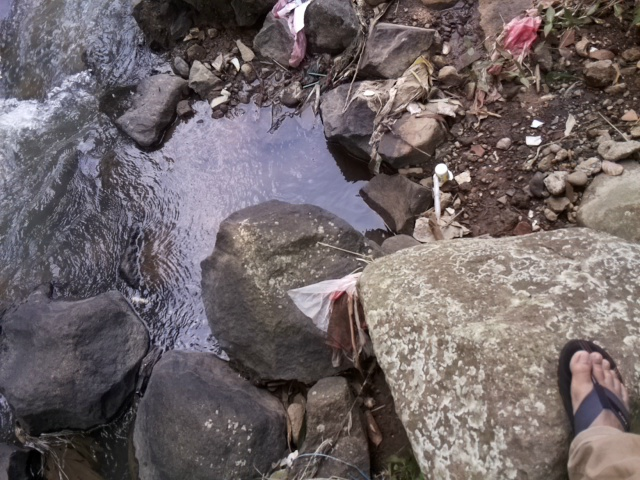Sampah_Plastik: (285, 272, 378, 365), (491, 6, 546, 80), (270, 1, 308, 73)
Sampah_Styrofoam: (432, 160, 453, 186)
